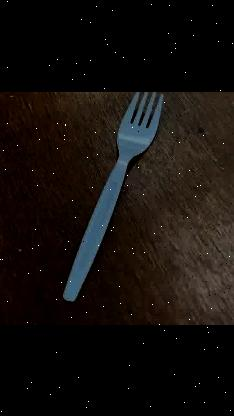Others: (62, 92, 164, 302)
